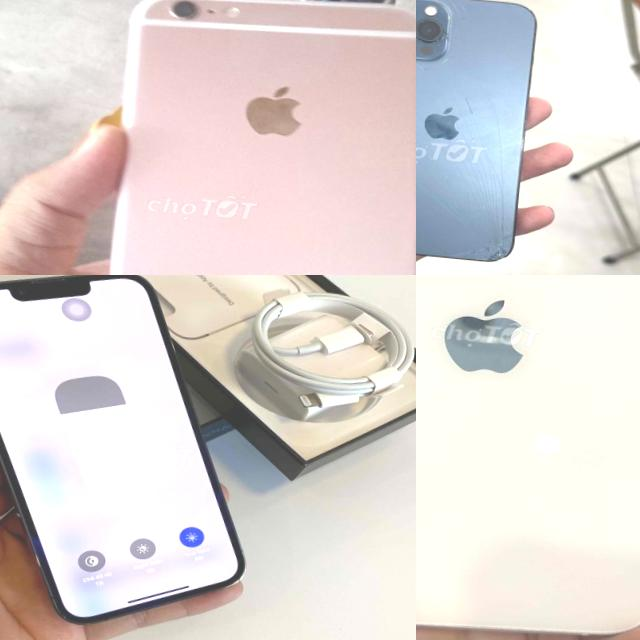gen_12_13: (0, 275, 270, 637), (416, 275, 640, 640), (416, 0, 546, 275)
gen_6: (109, 0, 416, 275)
physical_damage: (416, 69, 534, 275), (416, 0, 473, 78)
